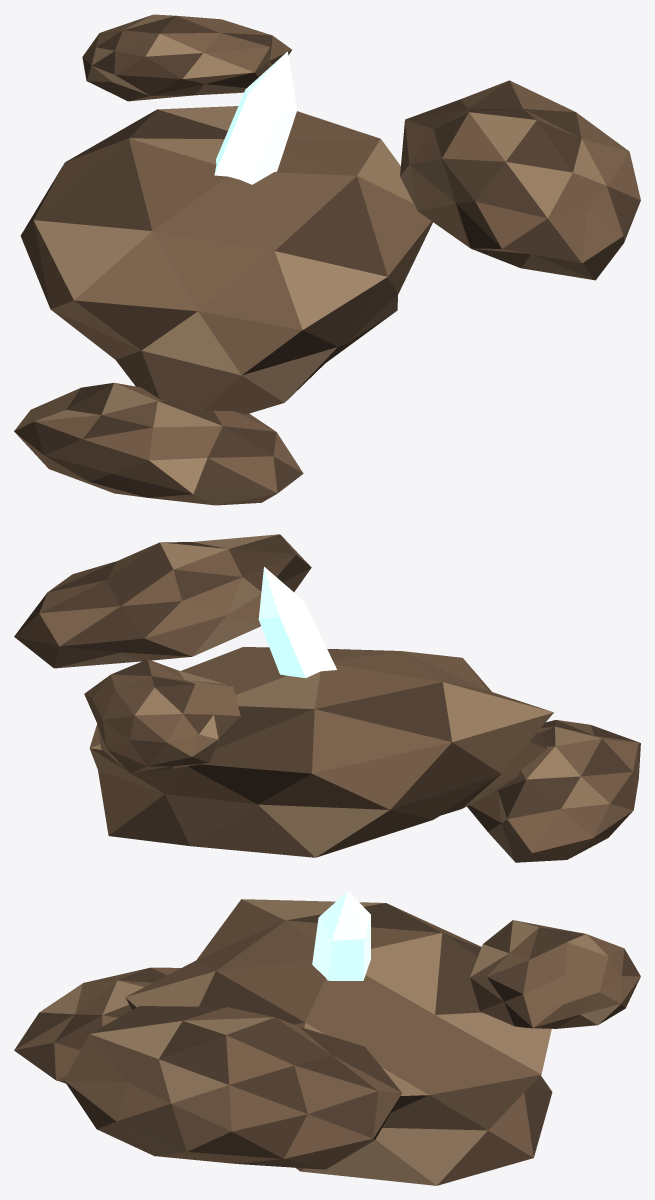
File: asteroide-4.glb
3 renders of one model, top to bottom at view 1: azimuth 30°, elevation 25°; view 2: azimuth 150°, elevation 25°; view 3: azimuth 270°, elevation 25°, orthographic. The views are drawn at different scales.
Parts seen in each view (by area): view 1: asteroide-4; view 2: asteroide-4; view 3: asteroide-4.
Part boxes in pixels (x1,y1,x2,y2): asteroide-4: (14, 14, 640, 505); asteroide-4: (14, 534, 640, 862); asteroide-4: (14, 891, 640, 1185).
Bounding box in the file's own units: 18.31 × 8.92 × 17.24.
